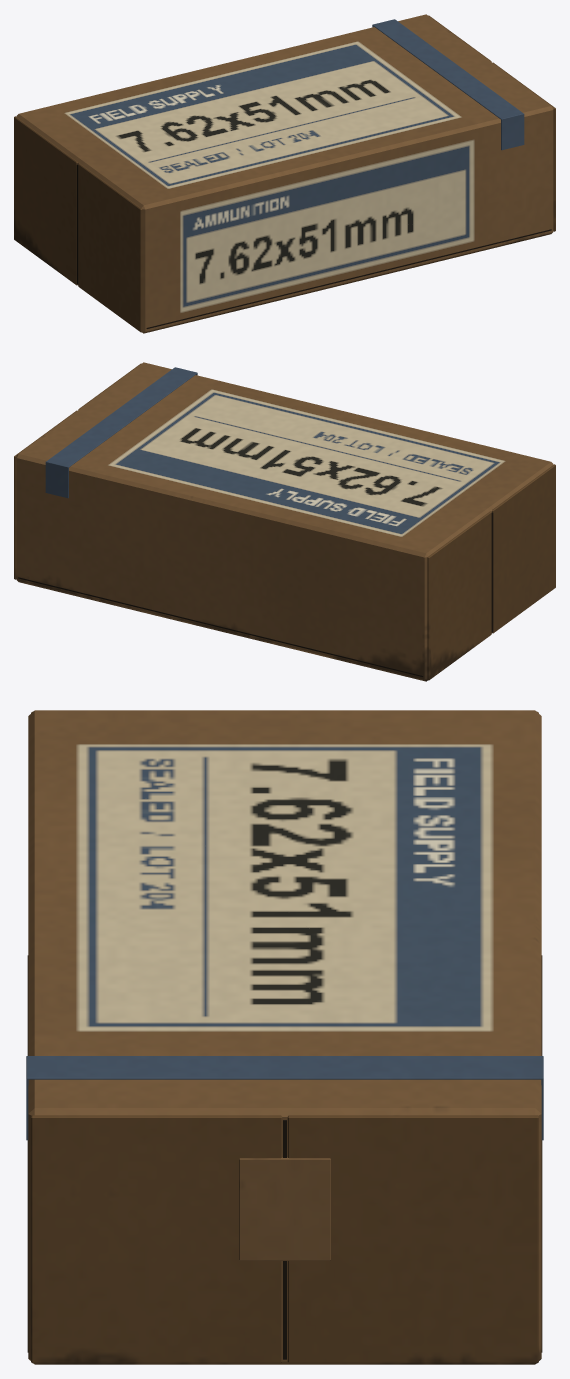
Rendered from ammo_762x51.glb.
The picture shows the model from 3 angles, top to bottom: view 1: azimuth 30°, elevation 25°; view 2: azimuth 150°, elevation 25°; view 3: azimuth 270°, elevation 25°; orthographic projection. The views are drawn at different scales.
Parts seen in each view (by area): view 1: ammo_762x51_Mesh; view 2: ammo_762x51_Mesh; view 3: ammo_762x51_Mesh.
Part boxes in pixels (bbox=[...]): ammo_762x51_Mesh: bbox=[14, 14, 555, 333]; ammo_762x51_Mesh: bbox=[14, 362, 555, 681]; ammo_762x51_Mesh: bbox=[26, 710, 543, 1364].
Size of what is drawn, in the model's own units: 0.146 by 0.0433 by 0.0786.
1 material, 1 textured.
